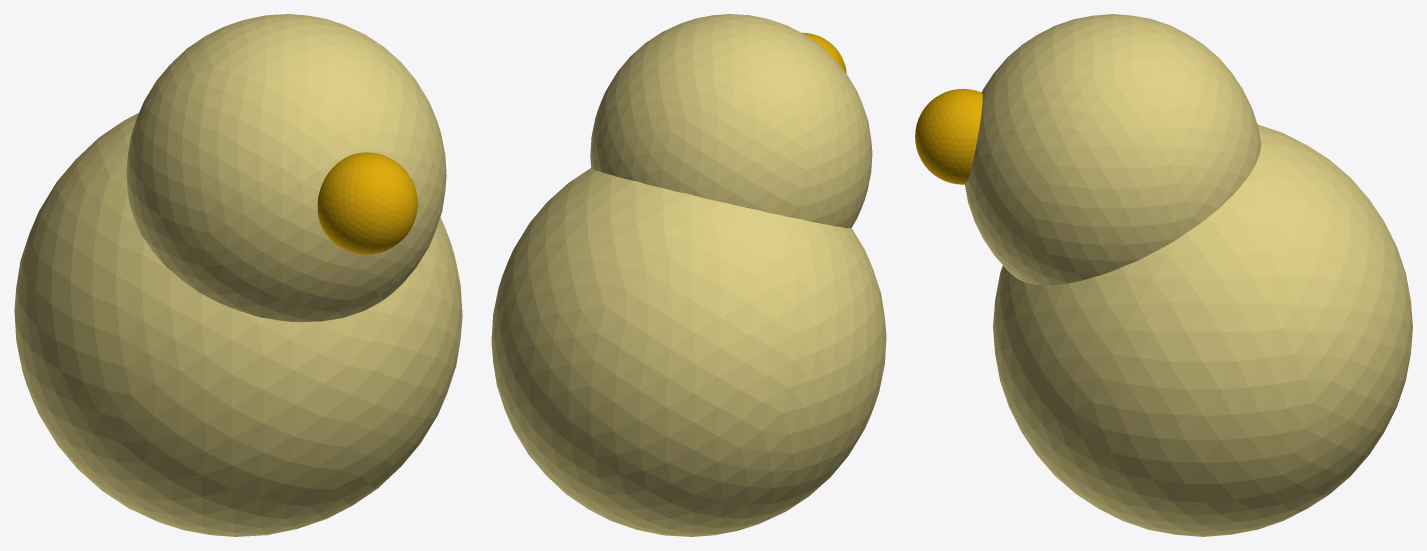
Rendered from rubber_duck.glb.
3 renders of one model, left to right at view 1: azimuth 30°, elevation 25°; view 2: azimuth 150°, elevation 25°; view 3: azimuth 270°, elevation 25°, orthographic. The views are drawn at different scales.
Parts seen in each view (by area): view 1: world; view 2: world; view 3: world.
Boxes of the visible parts, x1,y1,x2,y2 form: world: (14,14,462,536); world: (491,14,886,536); world: (915,14,1412,536).
Size of the model in its own units: 0.7 by 0.9 by 0.83.
